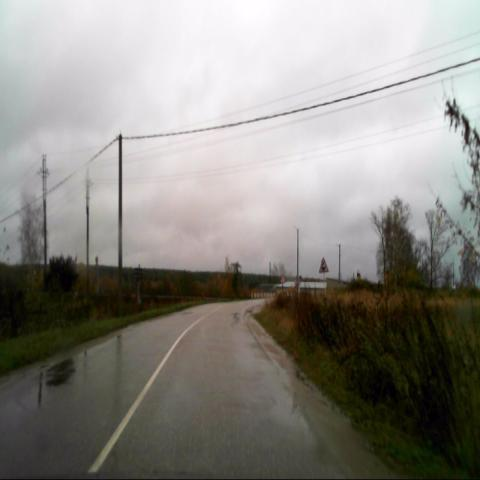1_2: (318, 256, 330, 274)
